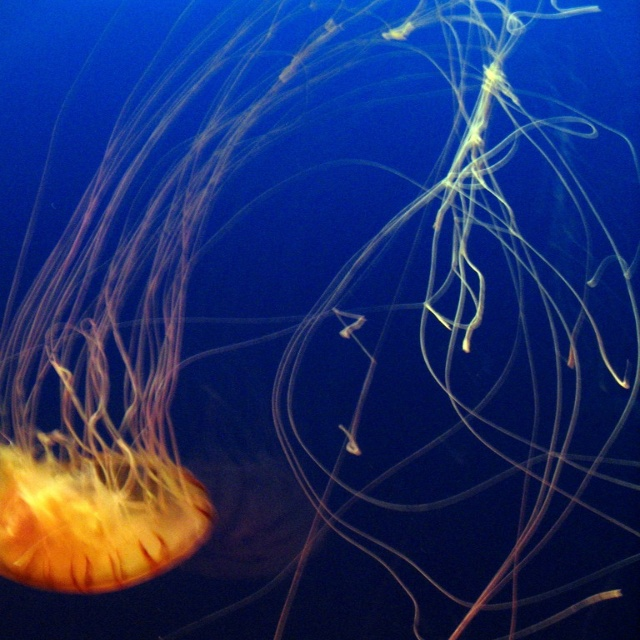Jellyfish: (0, 0, 581, 640)
